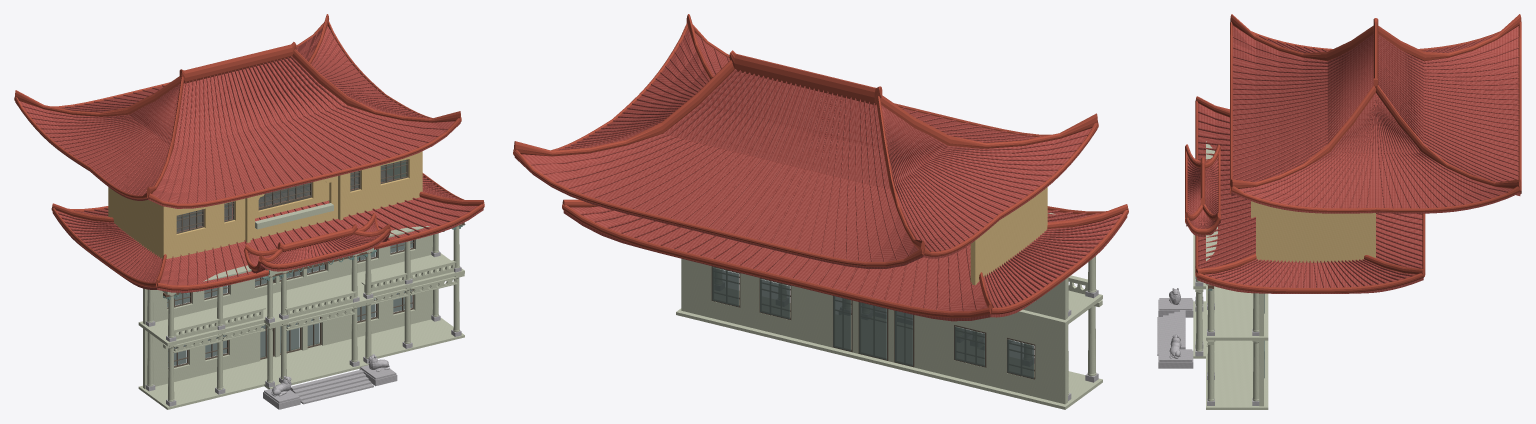
Rendered from changning-xinhua-200-chen-guofu-residence-raw.glb.
3 renders of one model, left to right at view 1: azimuth 30°, elevation 25°; view 2: azimuth 150°, elevation 25°; view 3: azimuth 270°, elevation 25°, orthographic. The views are drawn at different scales.
Parts seen in each view (by area): view 1: 新华路200号陈果夫住宅南面重檐外廊; view 2: 新华路200号陈果夫住宅南面重檐外廊; view 3: 新华路200号陈果夫住宅南面重檐外廊.
Boxes of the visible parts, bbox=[...] form: 新华路200号陈果夫住宅南面重檐外廊: bbox=[14, 14, 484, 409]; 新华路200号陈果夫住宅南面重檐外廊: bbox=[513, 14, 1128, 409]; 新华路200号陈果夫住宅南面重檐外廊: bbox=[1157, 14, 1521, 409].
Bounding box in the file's own units: 24.64 × 19.09 × 21.79.
9 materials, 4 textured.
